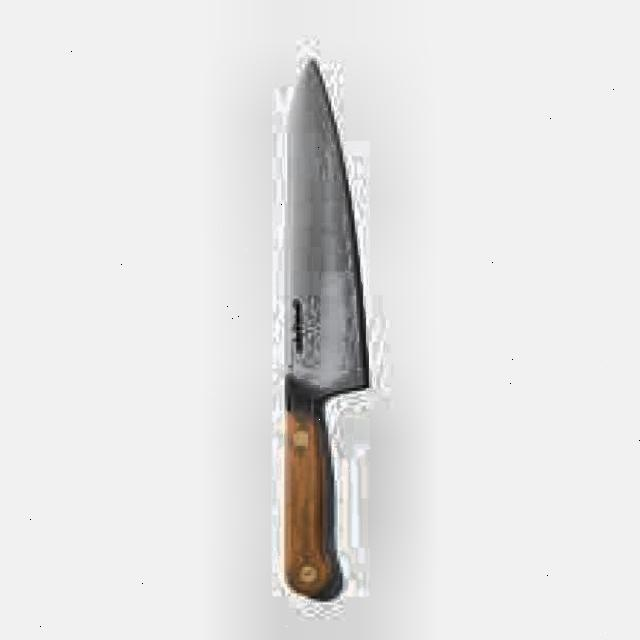knife: (282, 49, 375, 607)
